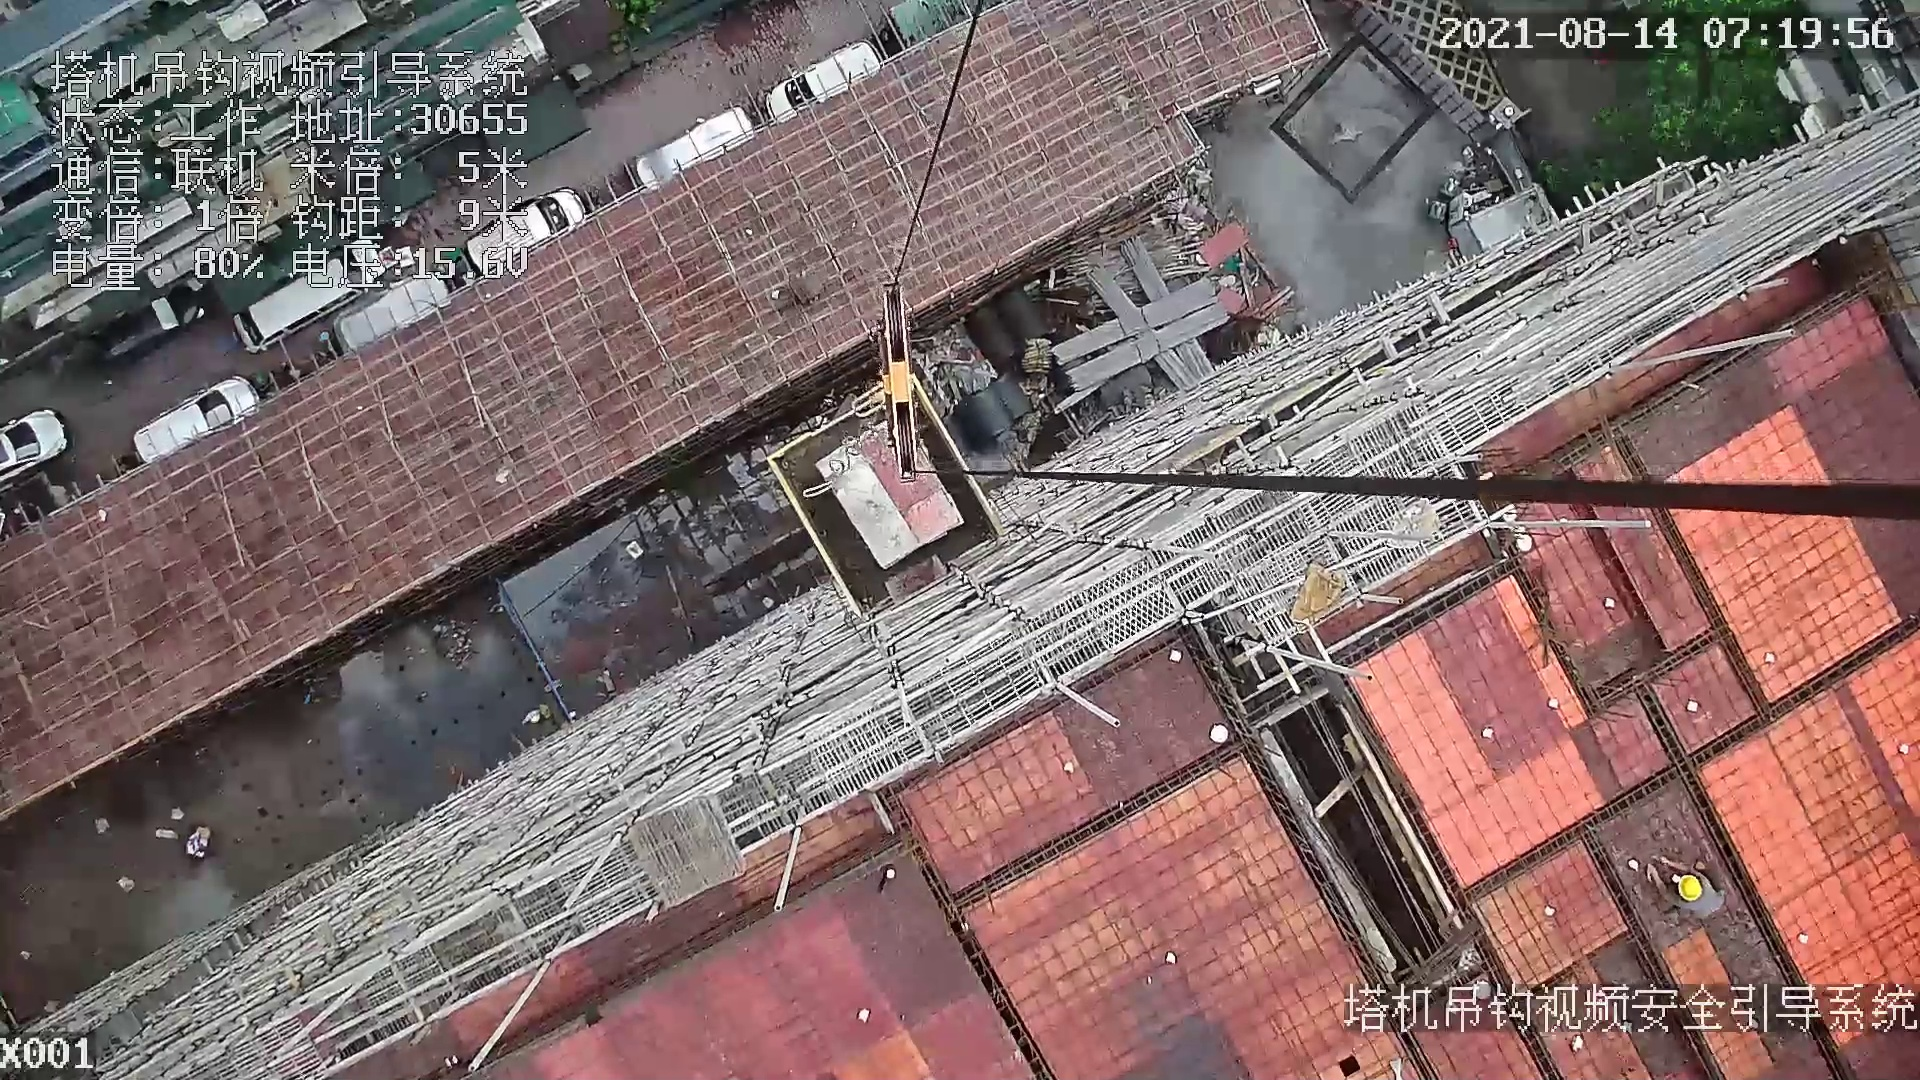helmet: (1676, 871, 1705, 903)
hook: (850, 268, 923, 478)
person: (1647, 850, 1735, 913)
